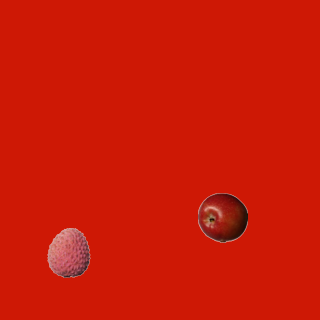Apple Braeburn: (197, 192, 247, 242)
Lychee: (43, 227, 93, 277)
